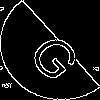G: (25, 25, 91, 85)
